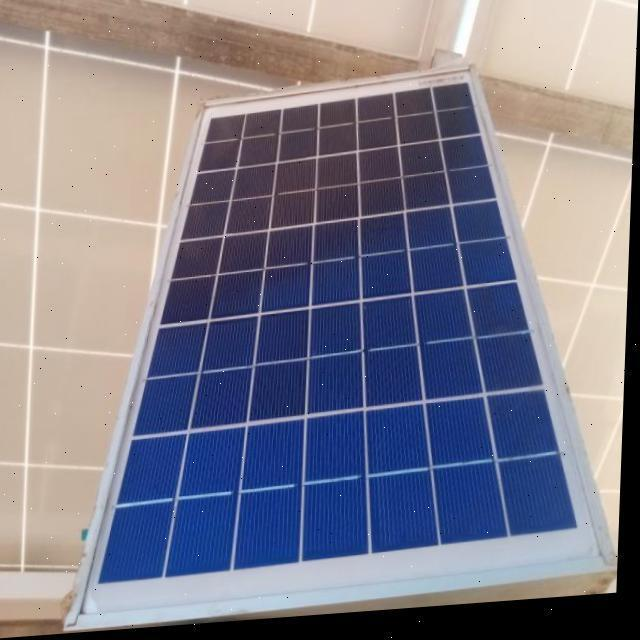Normal Solar Panel: (76, 65, 632, 623)
